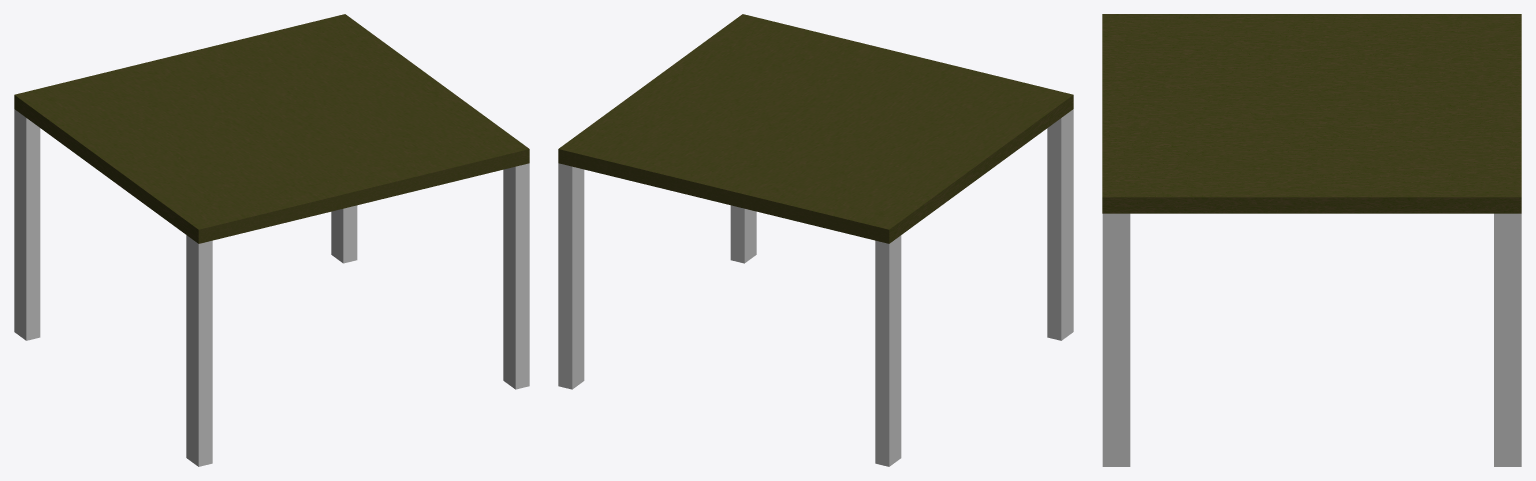
The model's file is Stół_żemieślniczy.fbx.
3 views of the same model, side by side, from view 1: azimuth 30°, elevation 25°; view 2: azimuth 150°, elevation 25°; view 3: azimuth 270°, elevation 25° (orthographic). The views are drawn at different scales.
Visible parts, largest first — view 1: Stół, Nogi 1, Nogi 2; view 2: Stół, Nogi 2, Nogi 1; view 3: Stół, Nogi 1, Nogi 2.
Boxes of the visible parts, x1,y1,x2,y2 form: Stół: (14, 14, 529, 243); Nogi 1: (186, 163, 529, 466); Nogi 2: (14, 109, 357, 340); Stół: (558, 14, 1073, 243); Nogi 2: (558, 163, 901, 466); Nogi 1: (730, 109, 1073, 340); Stół: (1102, 14, 1521, 213); Nogi 1: (1102, 213, 1130, 466); Nogi 2: (1494, 213, 1521, 466).
Bounding box in the file's own units: 621 × 425 × 600.
